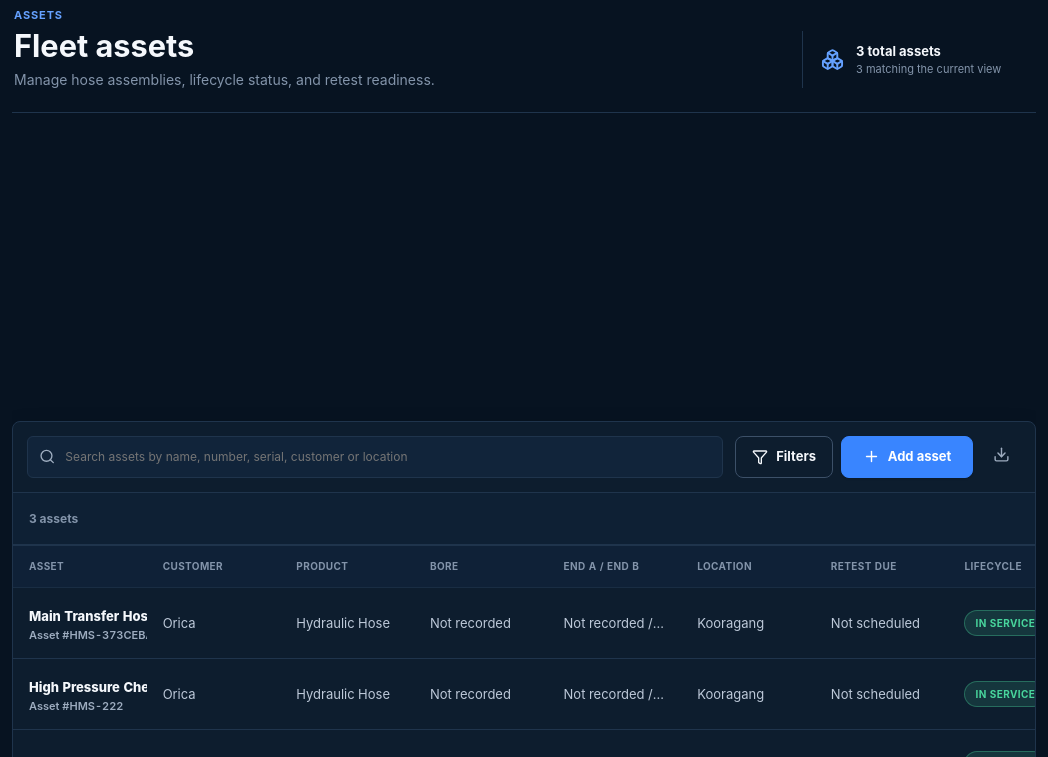
Test case: Staff asset register › still finds an asset by its number, and by its name
This screenshot has width=1048, height=757.
Expected: the text "Main Transfer Hose" is shown, [29, 608, 147, 624]
Type "hms-373ceba88" into the field labelled "Search assets". click: (387, 456)
box: [63, 448, 711, 465]
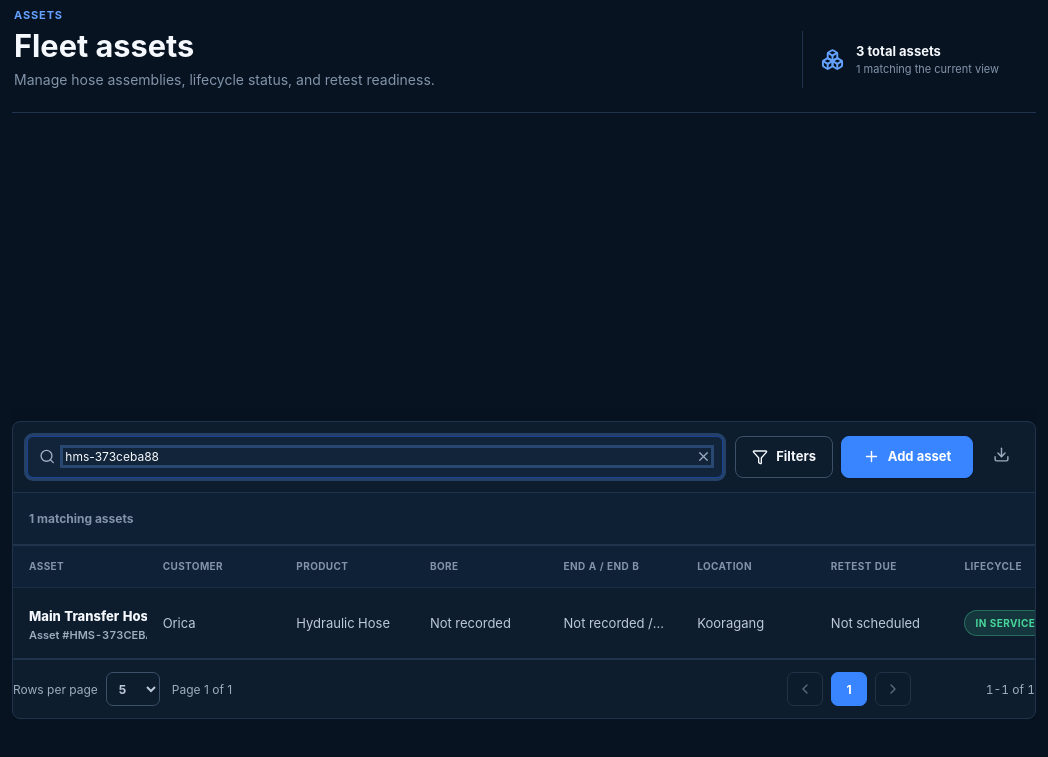
Expected: the text "Main Transfer Hose" is shown, [29, 608, 147, 624]
Expected: the text "High Pressure Chemical Transfer Hose Assembly 04" is gone
Replace the text in the field named "Search assets" with "chemical transfer". click: (387, 456)
box: [63, 448, 711, 465]
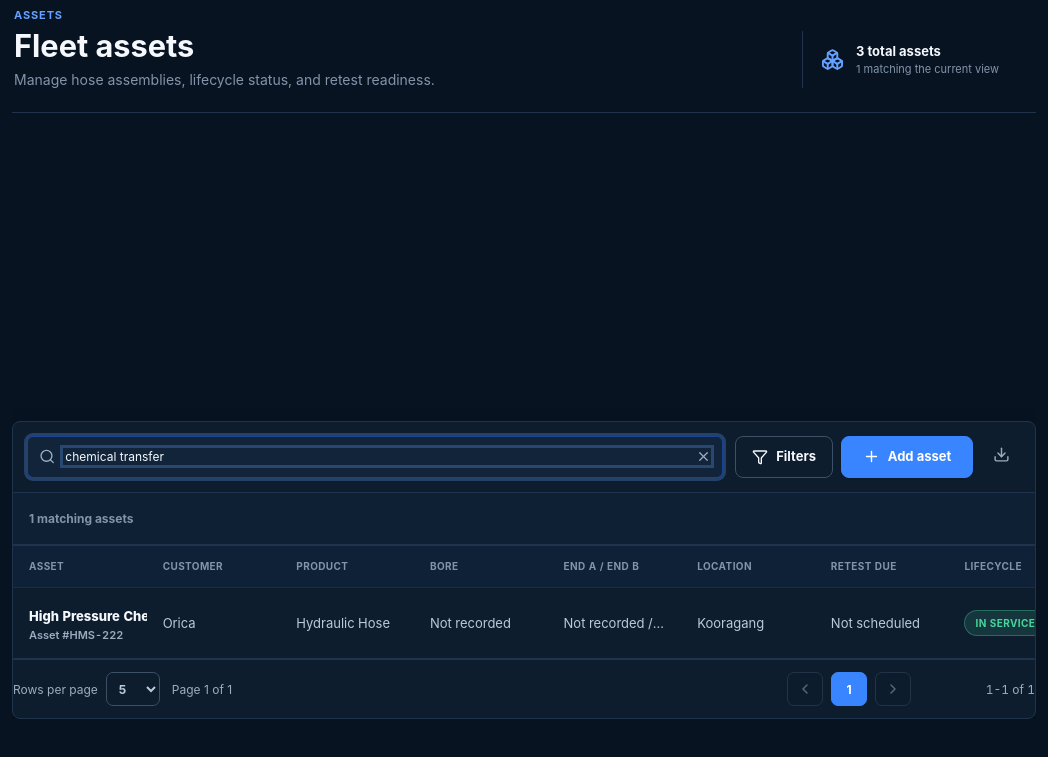
Expected: the text "Main Transfer Hose" is gone
